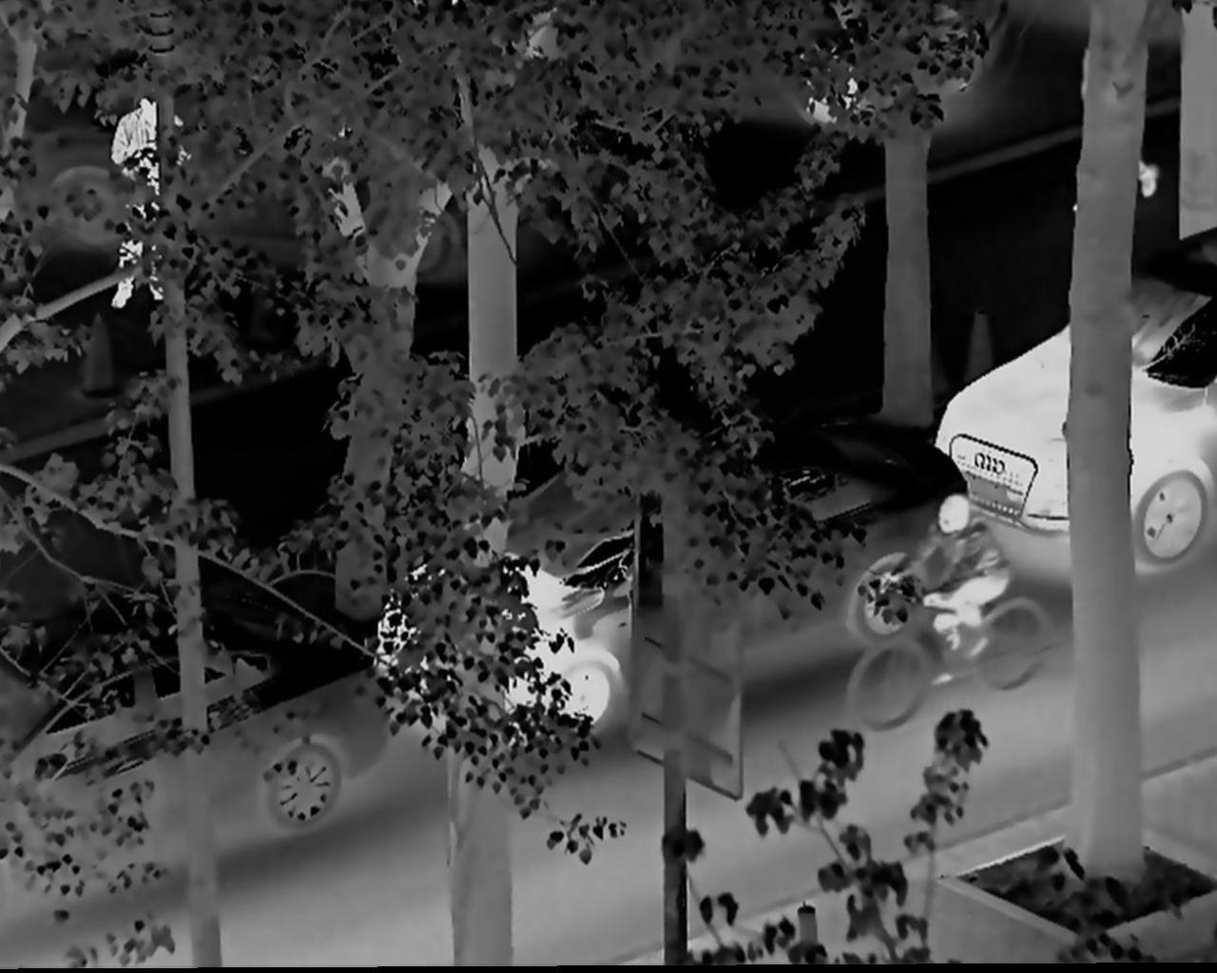person: (881, 491, 1014, 668), (101, 91, 194, 327)
